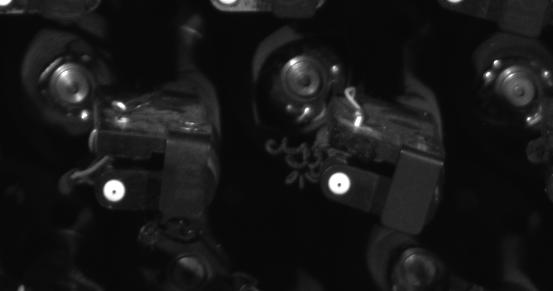fiber: (323, 168, 357, 205), (96, 173, 131, 208)
